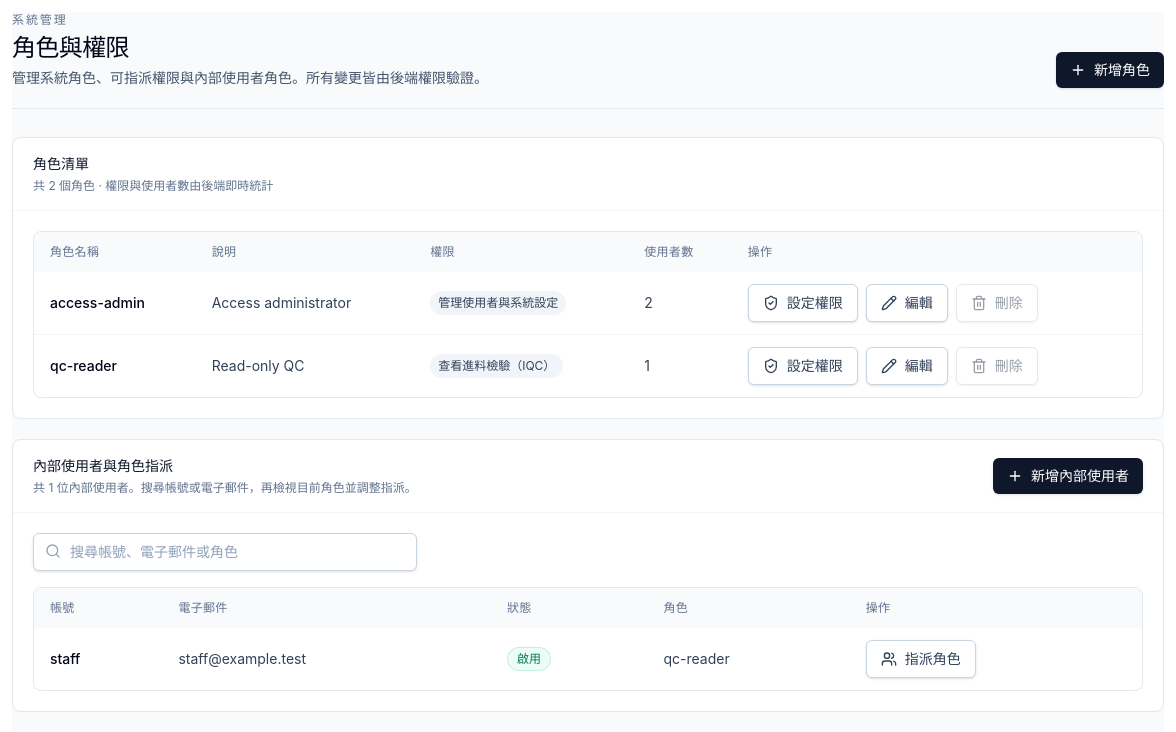
Test: roles and permissions admin page › creates a role through the API
Expected: the text "access-admin" is shown, x1=34 y1=272 x2=196 y2=334
Step 1. Click the button "新增角色" → {"x": 1110, "y": 70}, box x1=1056 y1=52 x2=1164 y2=88
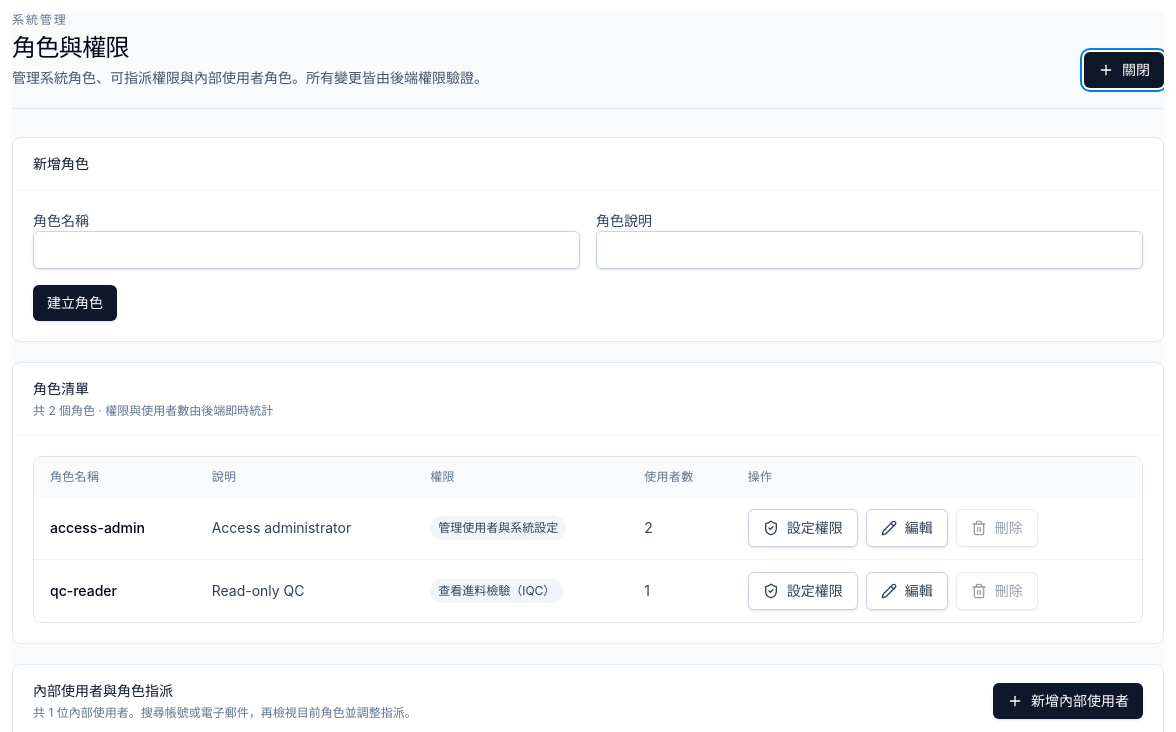
Step 2. Type "qc-lead" into the field labelled "角色名稱" → {"x": 306, "y": 250}, box x1=33 y1=231 x2=580 y2=269
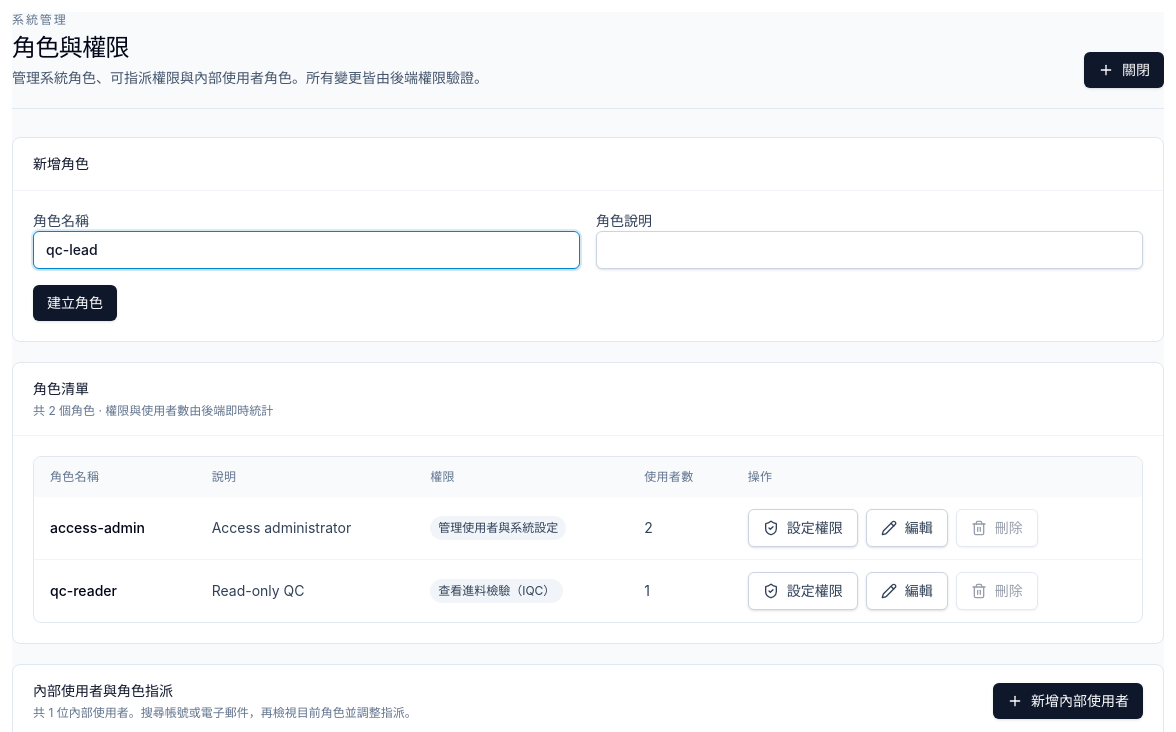
Step 3. Type "Quality lead" into the field labelled "角色說明" → {"x": 870, "y": 250}, box x1=596 y1=231 x2=1143 y2=269
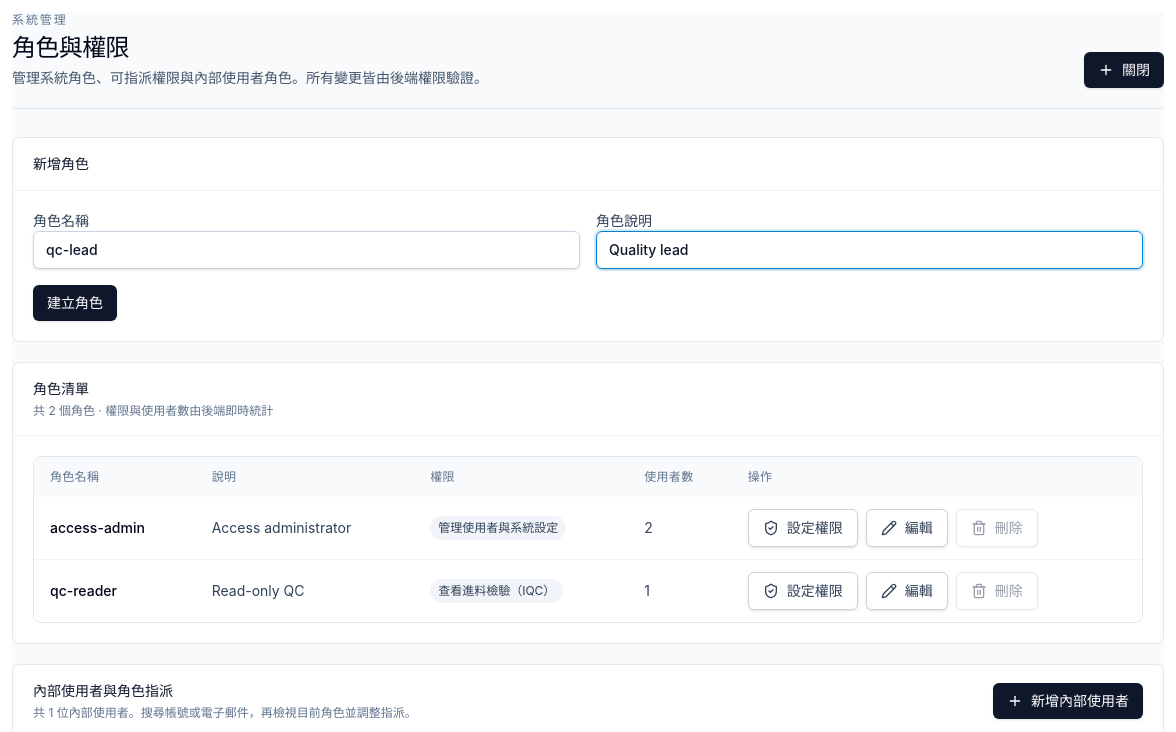
Step 4. Click the button "建立角色" → {"x": 75, "y": 303}, box x1=33 y1=285 x2=117 y2=321
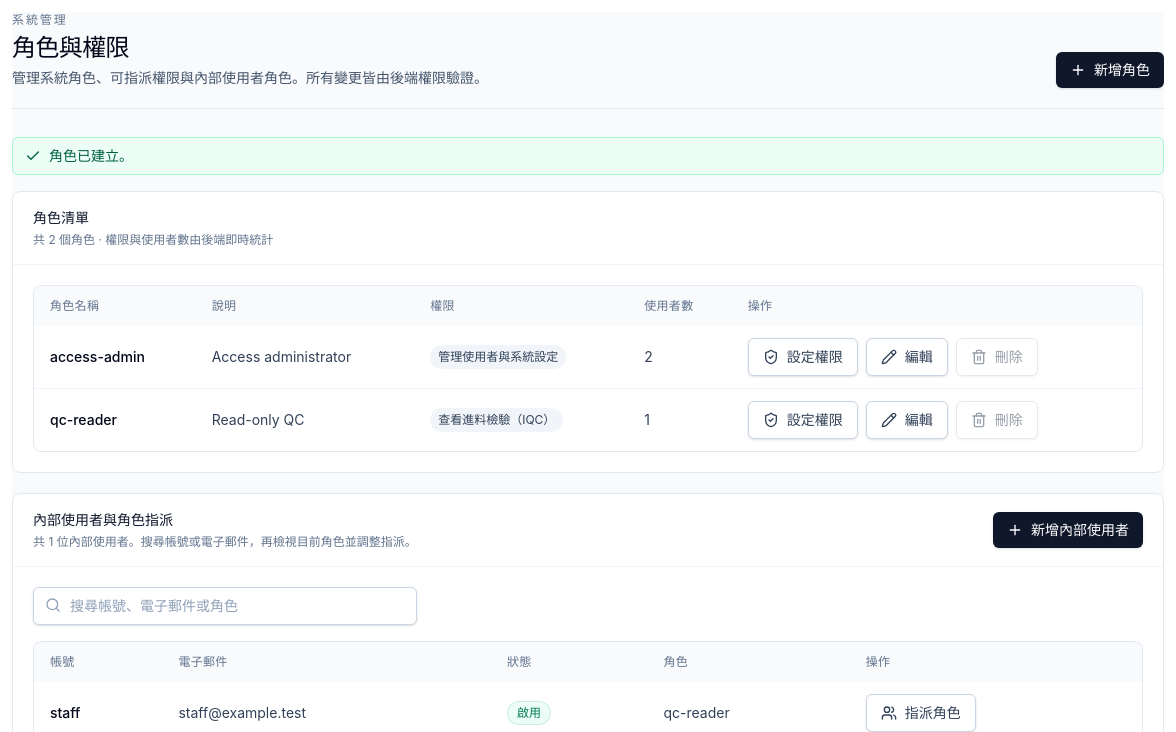
Expected: the text "角色已建立。" is shown, x1=12 y1=137 x2=1164 y2=175
